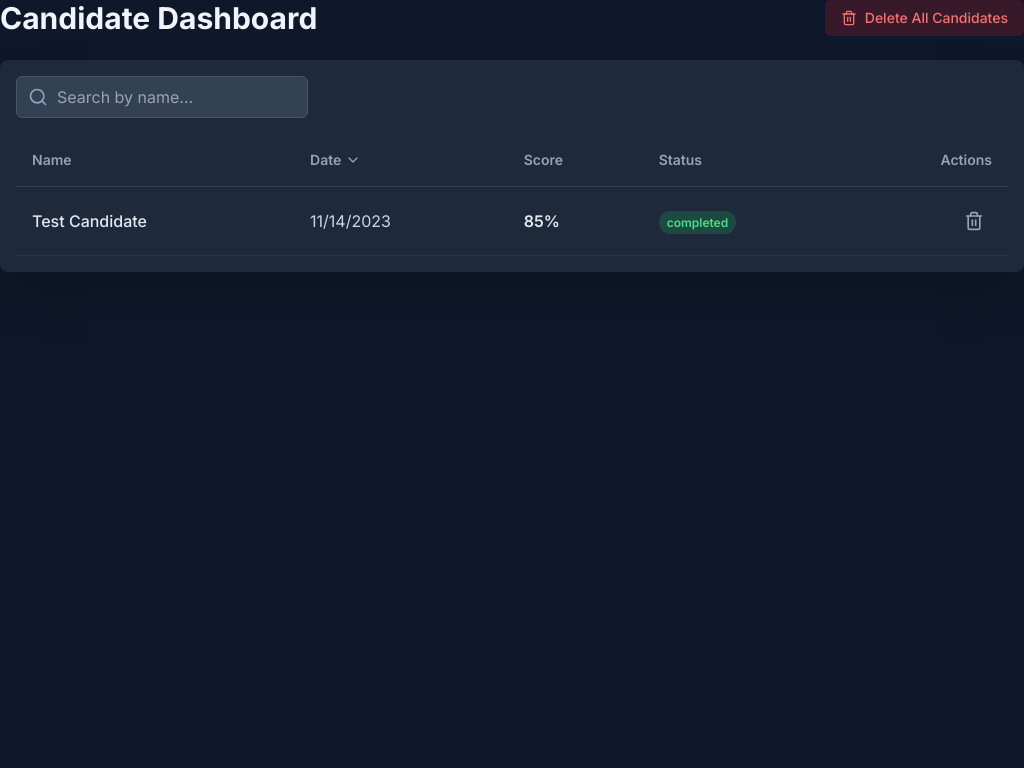
InterviewerDashboard › shows resume file view and download links for uploaded resumes
Click the text "Test Candidate" at (89, 221), box x1=16 y1=186 x2=294 y2=256
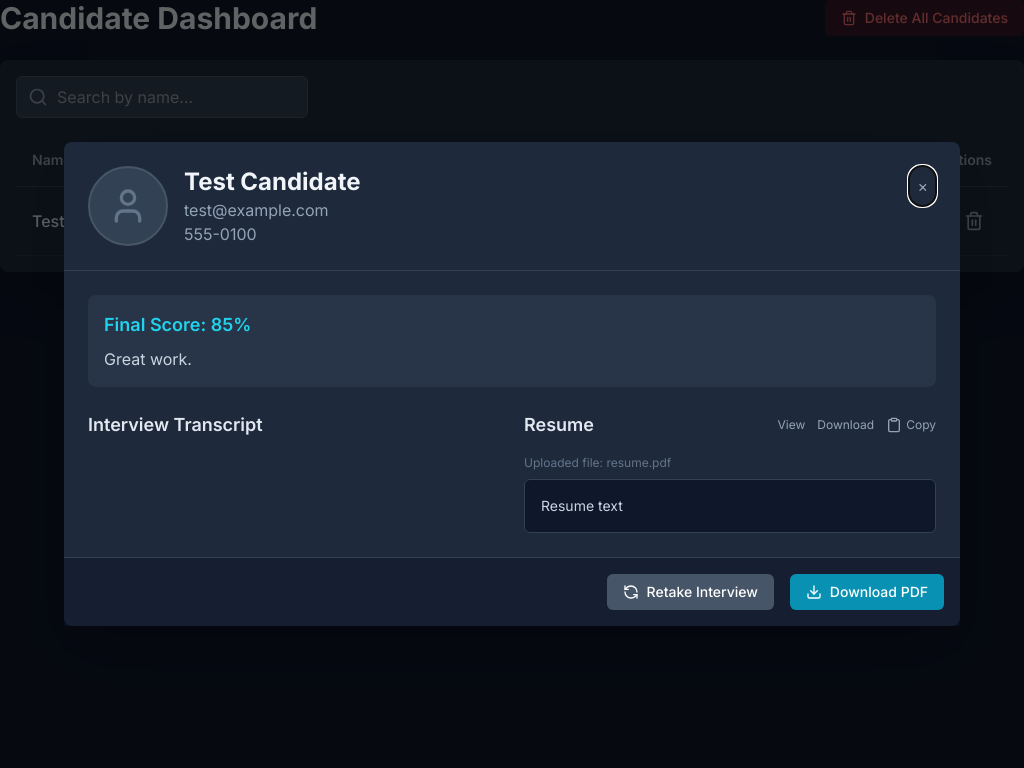
expect the text "Uploaded file: resume.pdf" is shown: met, box x1=524 y1=455 x2=671 y2=470
